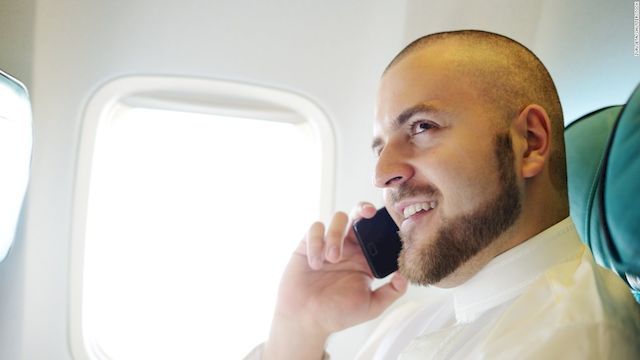phone: (351, 210, 411, 289)
talk: (287, 100, 512, 311)
